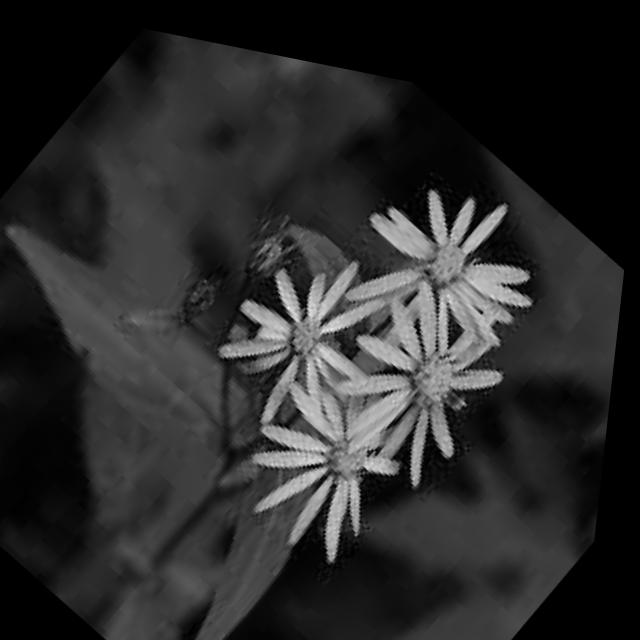Flower: (313, 121, 568, 403), (210, 320, 455, 584), (302, 243, 536, 500), (199, 184, 422, 437)
